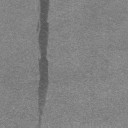red iron: (36, 0, 50, 116), (39, 118, 41, 124)
